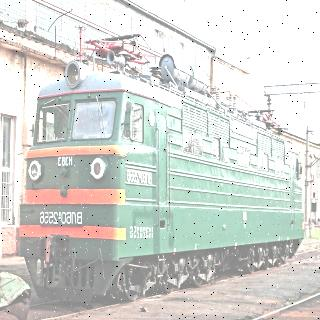poezd: (21, 62, 303, 298)
